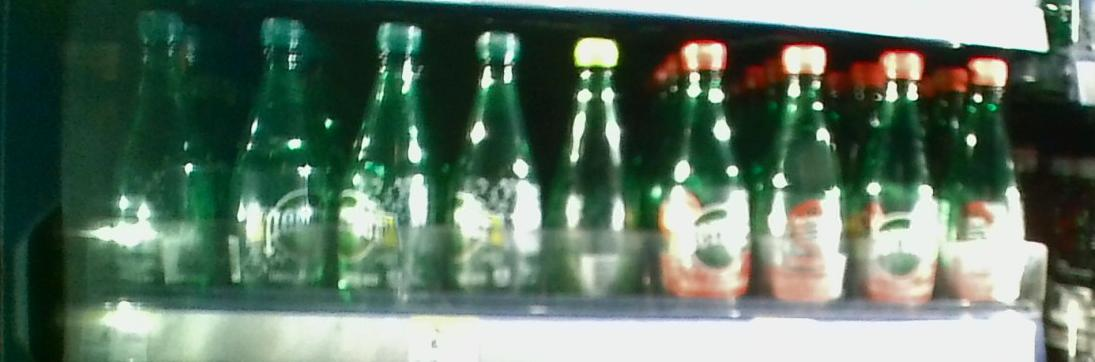bottle: (105, 6, 217, 303), (227, 7, 325, 313), (446, 15, 538, 319), (336, 9, 433, 296), (551, 29, 644, 317), (657, 35, 749, 309), (762, 39, 847, 319), (858, 44, 941, 315), (953, 55, 1027, 319)
